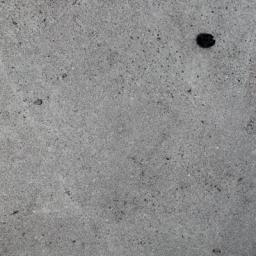FOD: (196, 31, 219, 52)
